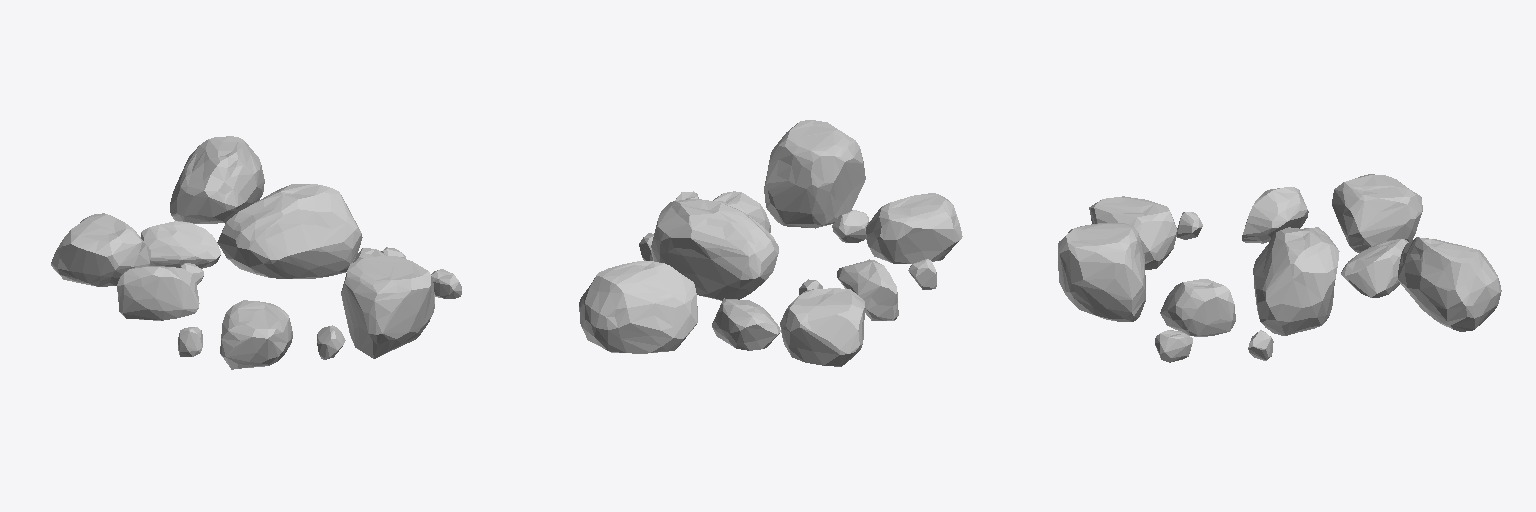
The model's file is SmallRocks01_low.OBJ.
The picture shows the model from 3 angles: view 1: azimuth 30°, elevation 25°; view 2: azimuth 150°, elevation 25°; view 3: azimuth 270°, elevation 25°; orthographic projection.
Visible parts, largest first — view 1: Group8884; view 2: Group8884; view 3: Group8884.
Part boxes in pixels (bbox=[...]): Group8884: bbox=[51, 136, 461, 369]; Group8884: bbox=[579, 120, 962, 366]; Group8884: bbox=[1058, 174, 1501, 362].
Size of the model in its own units: 4.18 by 1.19 by 5.42.